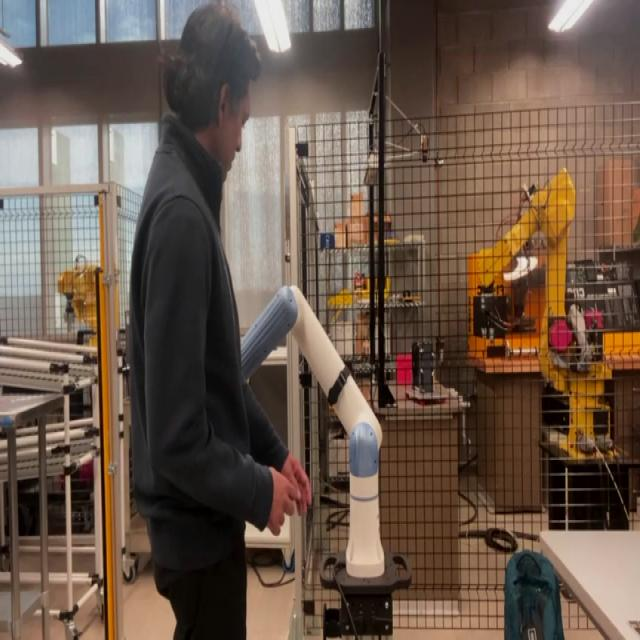robot: (239, 282, 413, 638)
